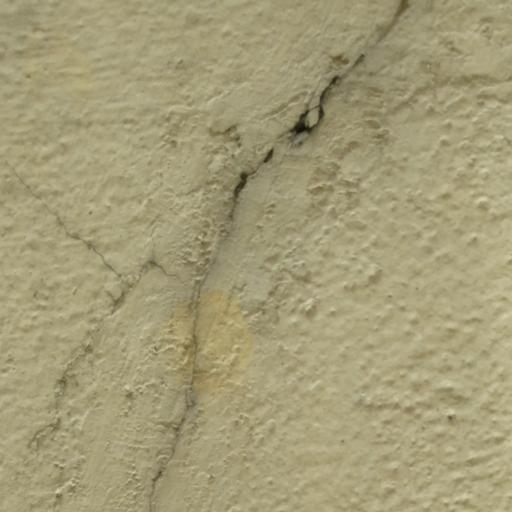minor_crack: (0, 0, 428, 512)
